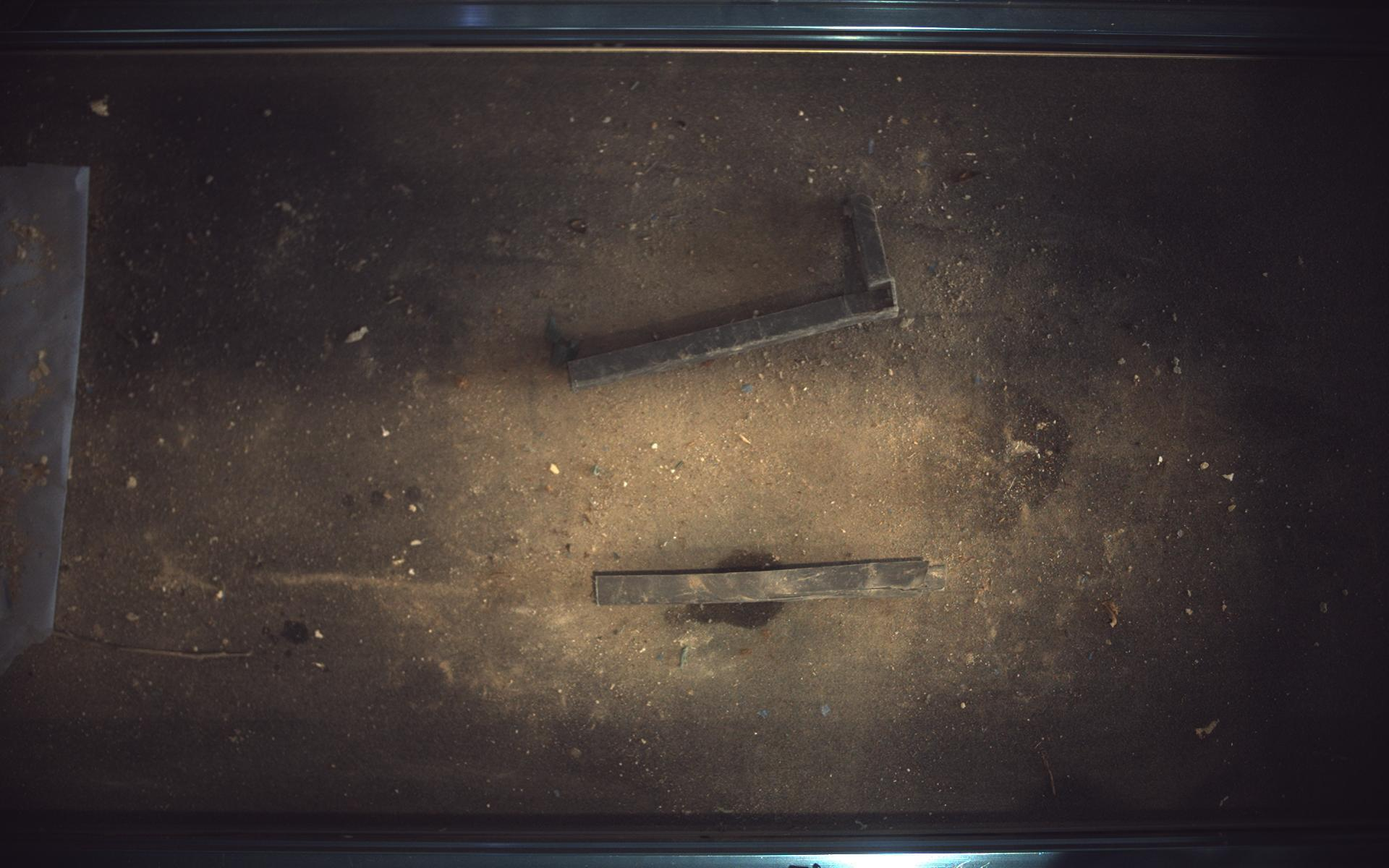plastic: (569, 193, 901, 388), (594, 558, 948, 606)
